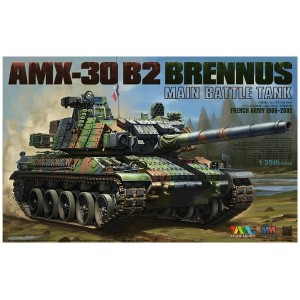Battle Tank: (10, 101, 258, 229)
